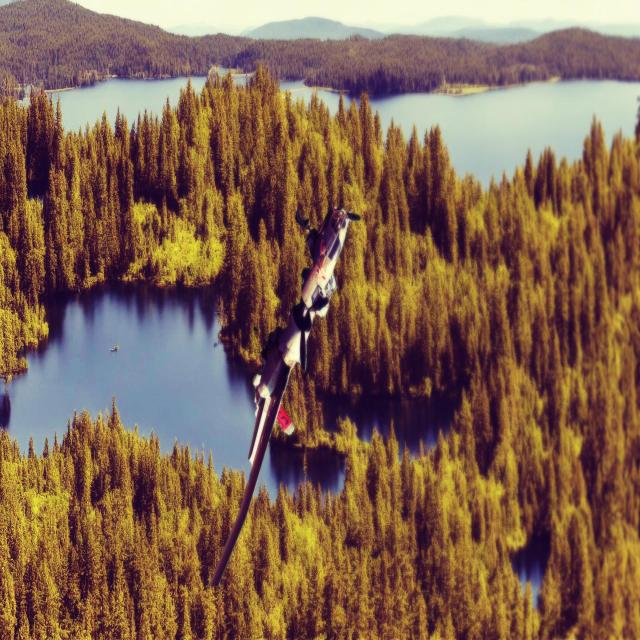airplane: (209, 203, 360, 588)
